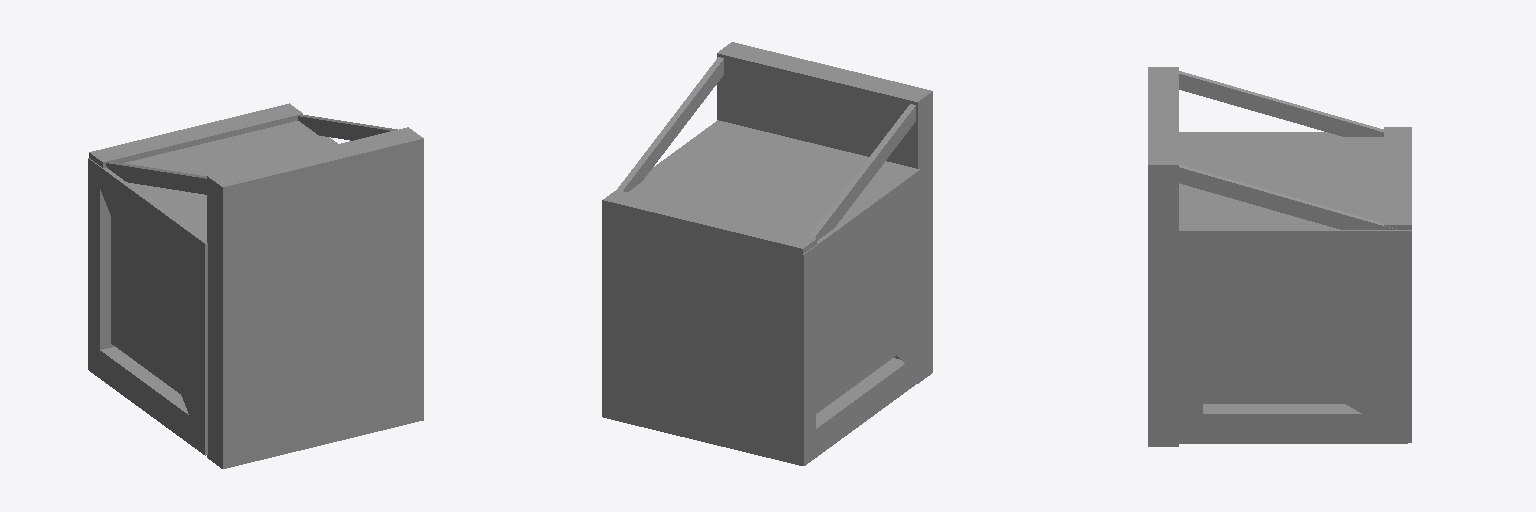
The model's file is FunBox.obj.
The picture shows the model from 3 angles: view 1: azimuth 30°, elevation 25°; view 2: azimuth 150°, elevation 25°; view 3: azimuth 270°, elevation 25°; orthographic projection.
Parts seen in each view (by area): view 1: Cube_Cube.011; view 2: Cube_Cube.011; view 3: Cube_Cube.011.
Part boxes in pixels (x1,y1,x2,y2): Cube_Cube.011: (88,103,423,468); Cube_Cube.011: (602,42,932,465); Cube_Cube.011: (1148,67,1411,446).
Bounding box in the file's own units: 34.84 × 46.02 × 39.07.